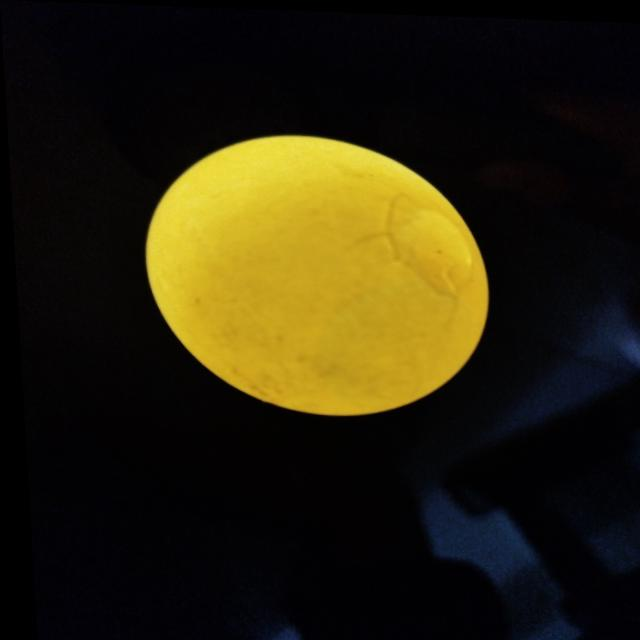Rachadura: (349, 190, 474, 324)
